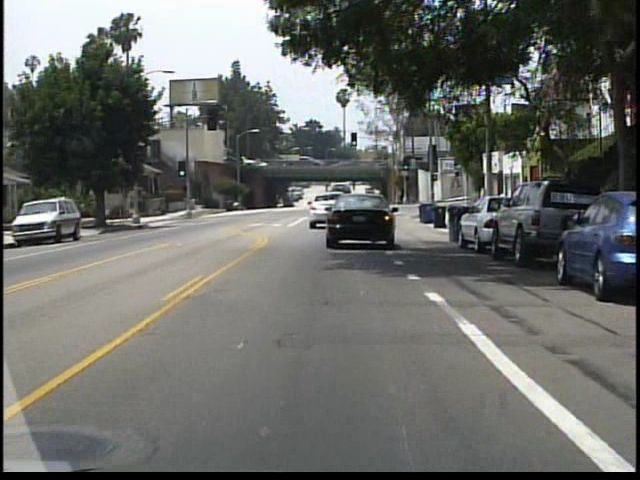person: (80, 200, 92, 228)
